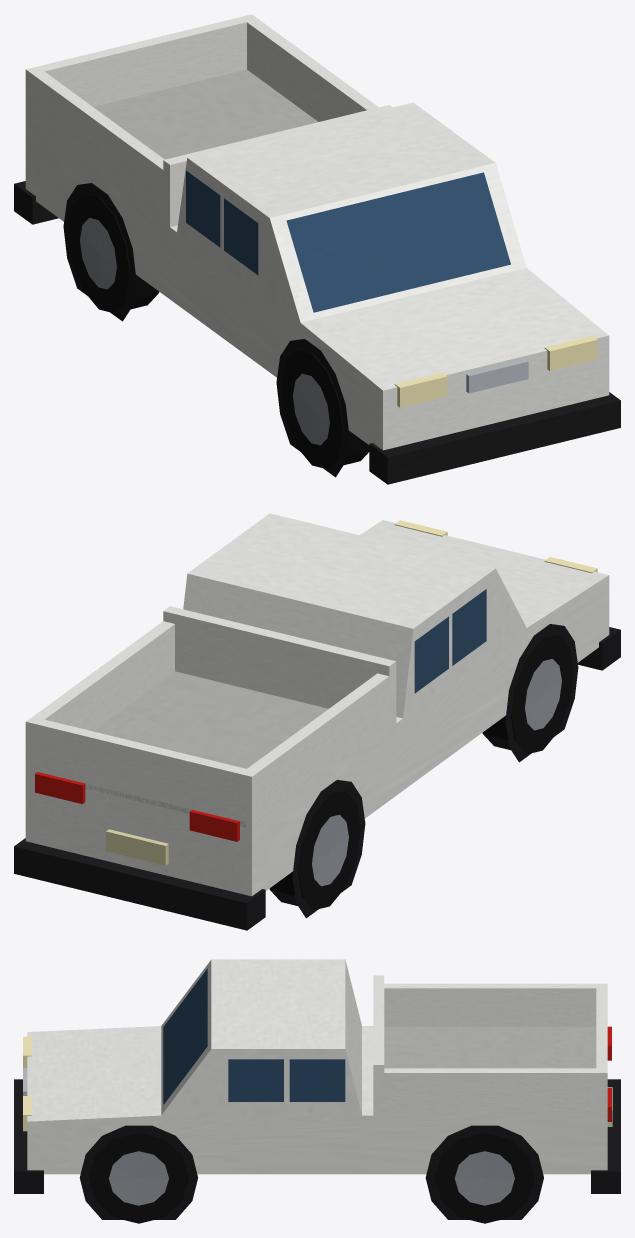
Rendered from pickup-white.glb.
3 renders of one model, top to bottom at view 1: azimuth 30°, elevation 25°; view 2: azimuth 150°, elevation 25°; view 3: azimuth 270°, elevation 25°, orthographic. The views are drawn at different scales.
Parts seen in each view (by area): view 1: pickup-white, wheel_rr, wheel_fr; view 2: pickup-white, wheel_rr, wheel_fr; view 3: pickup-white, wheel_fl, wheel_rl.
Part boxes in pixels (bbox=[...]): pickup-white: bbox=[14, 14, 620, 484]; wheel_rr: bbox=[68, 193, 159, 313]; wheel_fr: bbox=[281, 349, 369, 469]; pickup-white: bbox=[14, 513, 620, 930]; wheel_rr: bbox=[269, 790, 360, 910]; wheel_fr: bbox=[482, 634, 573, 754]; pickup-white: bbox=[14, 959, 620, 1219]; wheel_fl: bbox=[88, 1132, 188, 1223]; wheel_rl: bbox=[434, 1132, 534, 1223].
Size of the model in its own units: 1.96 by 1.72 by 5.44.
1 material, 1 textured.
